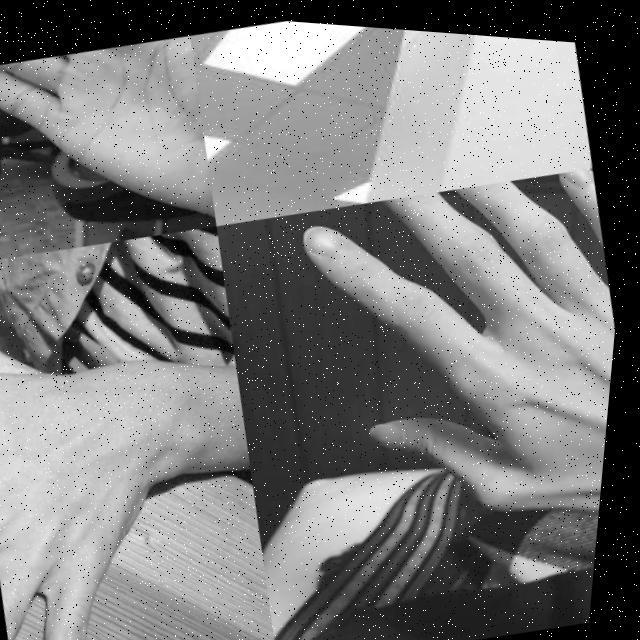no-gloves: (272, 141, 631, 609), (0, 301, 286, 640), (0, 21, 234, 278)
